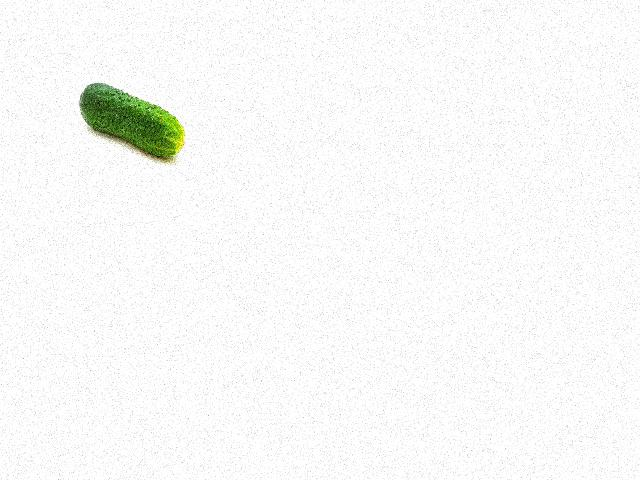cucumber: (79, 82, 185, 157)
